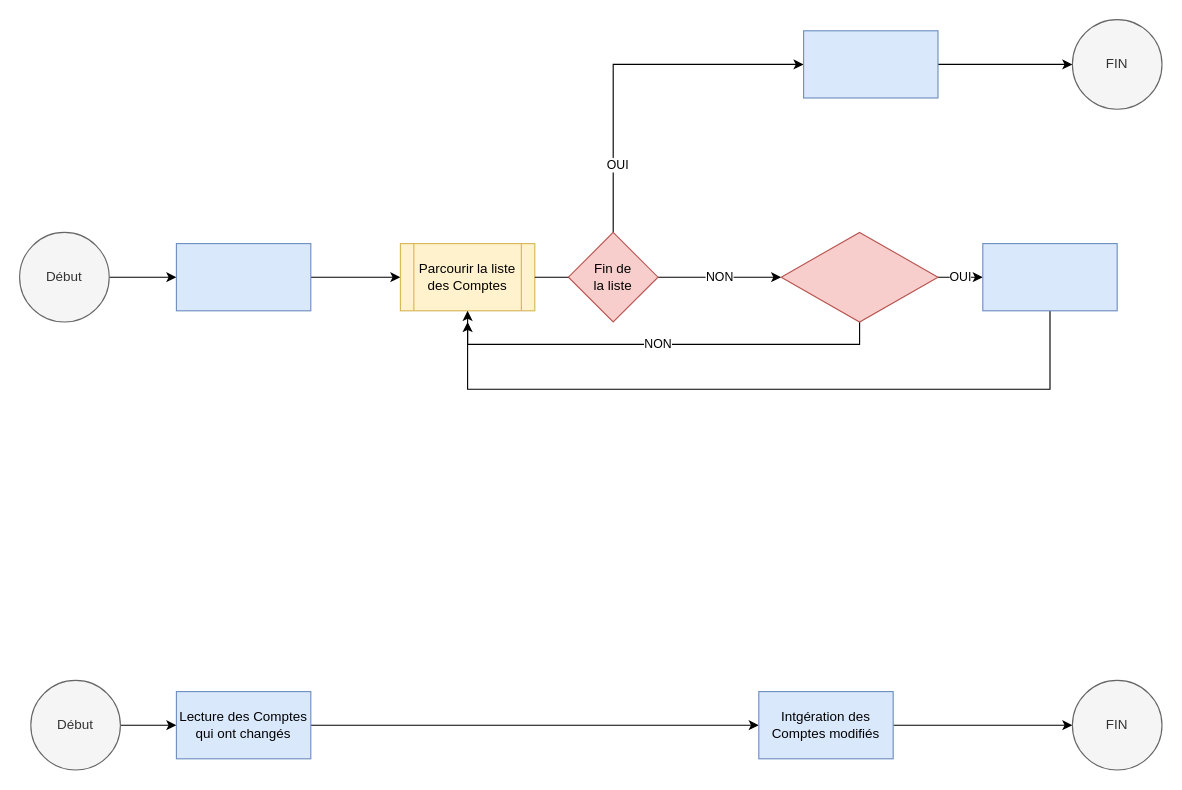
Some shapes in this 1182 by 790 pixel diagram are drawn without their labels. Each missing label, with the centre of its shape:
"Intgération des enregistrements mis de coté" belongs at point 870,64.
"Lecture des Comptes" belongs at point 243,276.
"Mettre de coté l'enregistrement" belongs at point 1049,276.
"Tester si un élément a été modifié" belongs at point 859,276.
